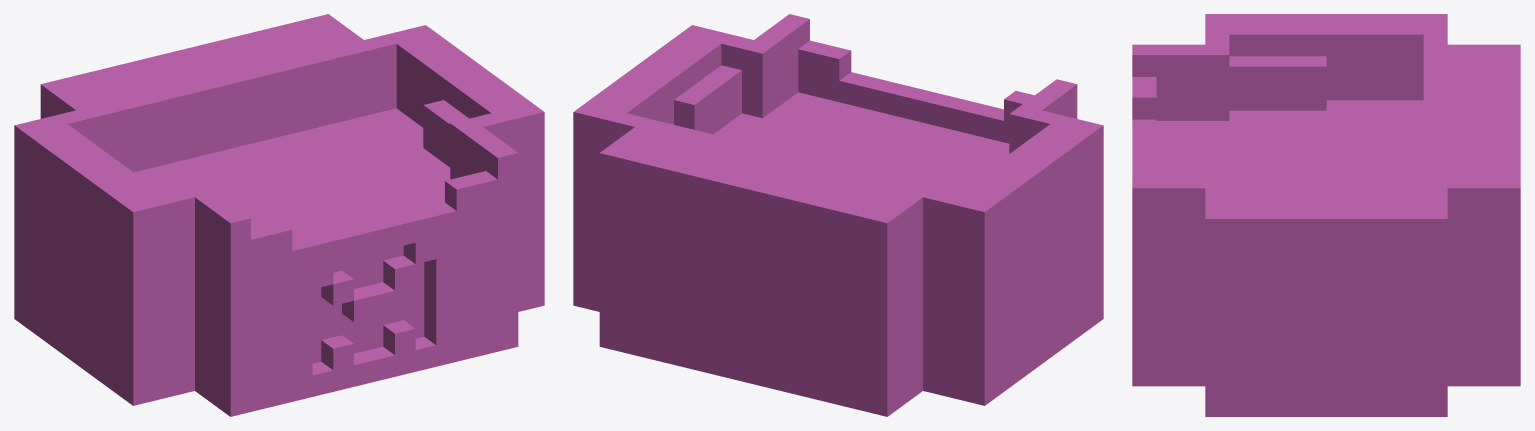
3 views of the same model, side by side, from view 1: azimuth 30°, elevation 25°; view 2: azimuth 150°, elevation 25°; view 3: azimuth 270°, elevation 25° (orthographic). The views are drawn at different scales.
Visible parts, largest first — view 1: 19; view 2: 19; view 3: 19.
Part boxes in pixels (x1=…): 19: x1=14, y1=14, x2=544, y2=416; 19: x1=573, y1=14, x2=1103, y2=416; 19: x1=1132, y1=14, x2=1520, y2=416.
Bounding box in the file's own units: 200 × 90 × 160.
1 material, 1 textured.
